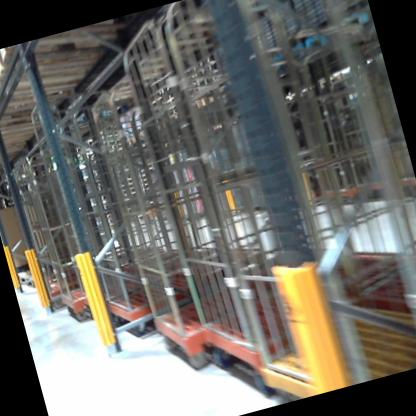pallet: (0, 11, 156, 98), (0, 33, 111, 110), (0, 60, 108, 130), (0, 89, 80, 157), (195, 80, 229, 109), (172, 98, 205, 125)
